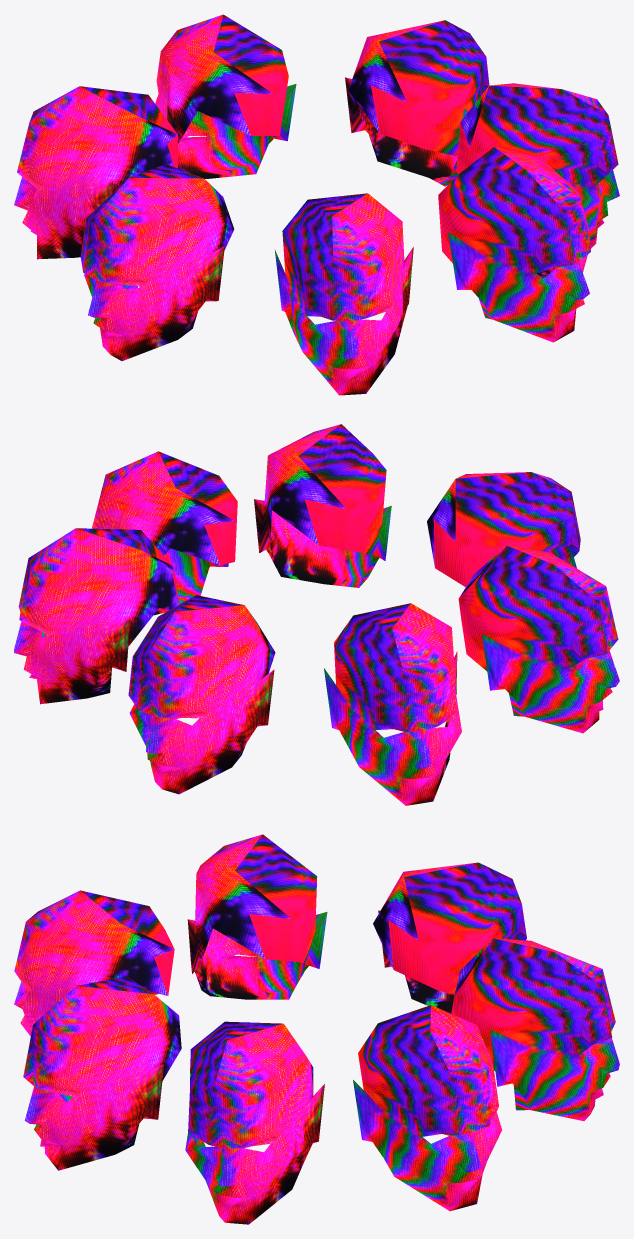
The model's file is Dancer3.glb.
The picture shows the model from 3 angles, top to bottom: view 1: azimuth 30°, elevation 25°; view 2: azimuth 150°, elevation 25°; view 3: azimuth 270°, elevation 25°; orthographic projection. The views are drawn at different scales.
Visible parts, largest first — view 1: CC_Base_Body.002; view 2: CC_Base_Body.002; view 3: CC_Base_Body.002.
Boxes of the visible parts, left/top/right/bottom form: CC_Base_Body.002: left=14, top=14, right=619, bottom=395; CC_Base_Body.002: left=14, top=424, right=619, bottom=805; CC_Base_Body.002: left=14, top=834, right=619, bottom=1224.
Bounding box in the file's own units: 5.42 × 1.66 × 5.35.
1 material, 1 textured.
